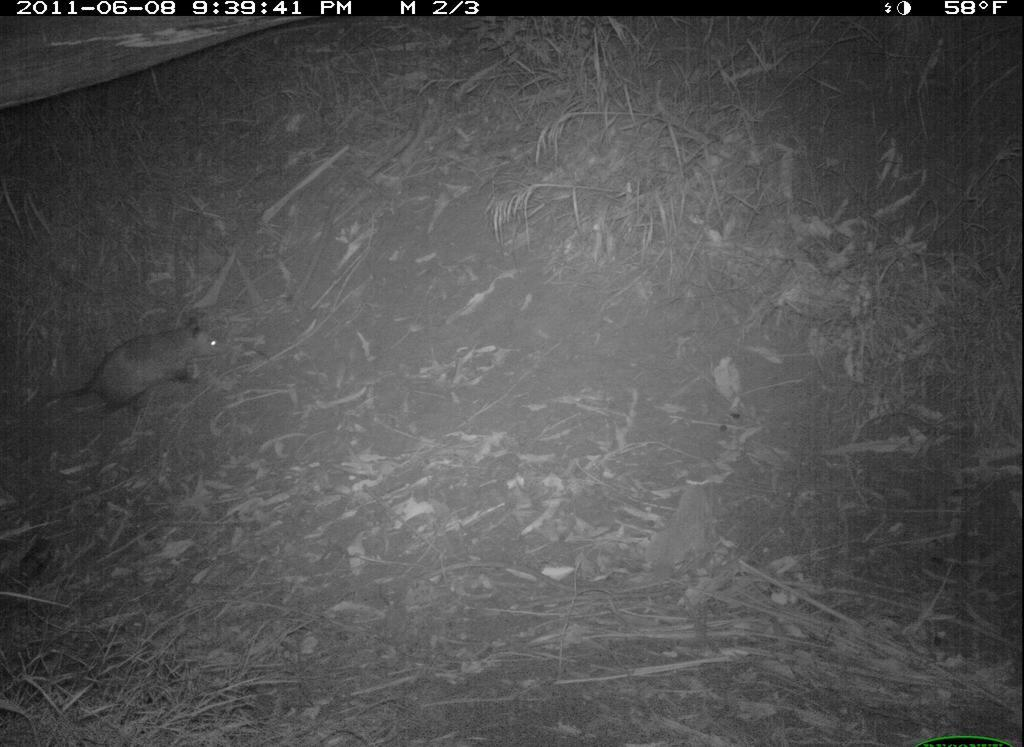opossum: (24, 312, 228, 437)
